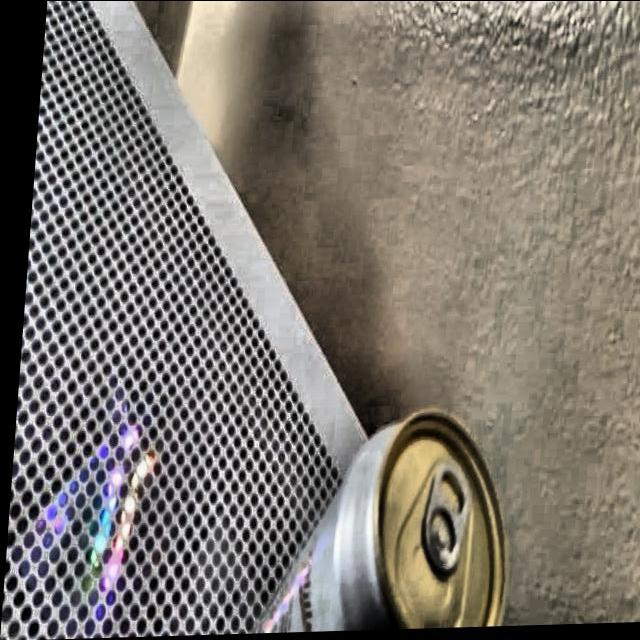Aluminum Can: (233, 408, 524, 634)
